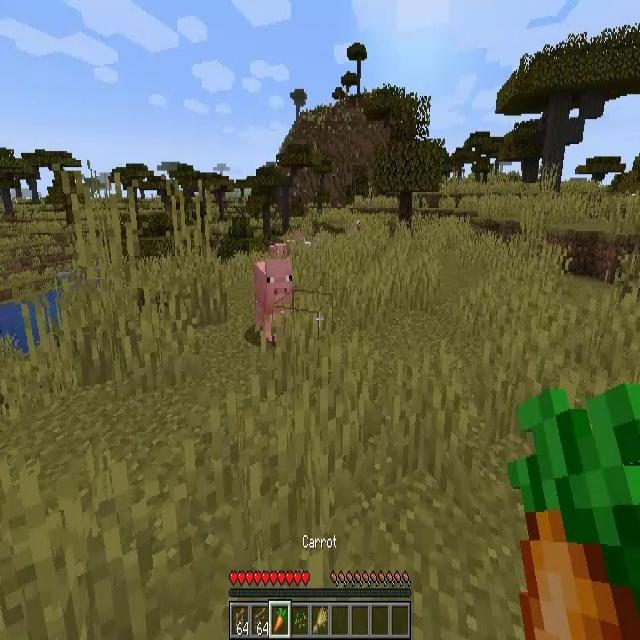pig: (254, 258, 294, 340)
